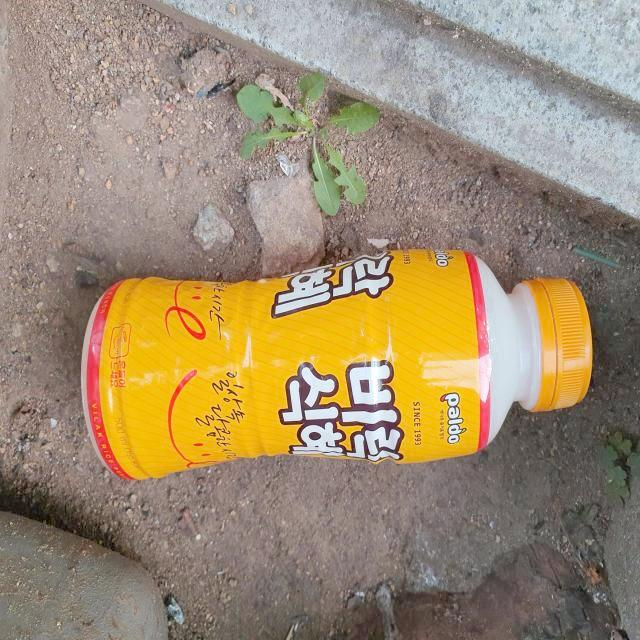bottle: (83, 251, 594, 482)
